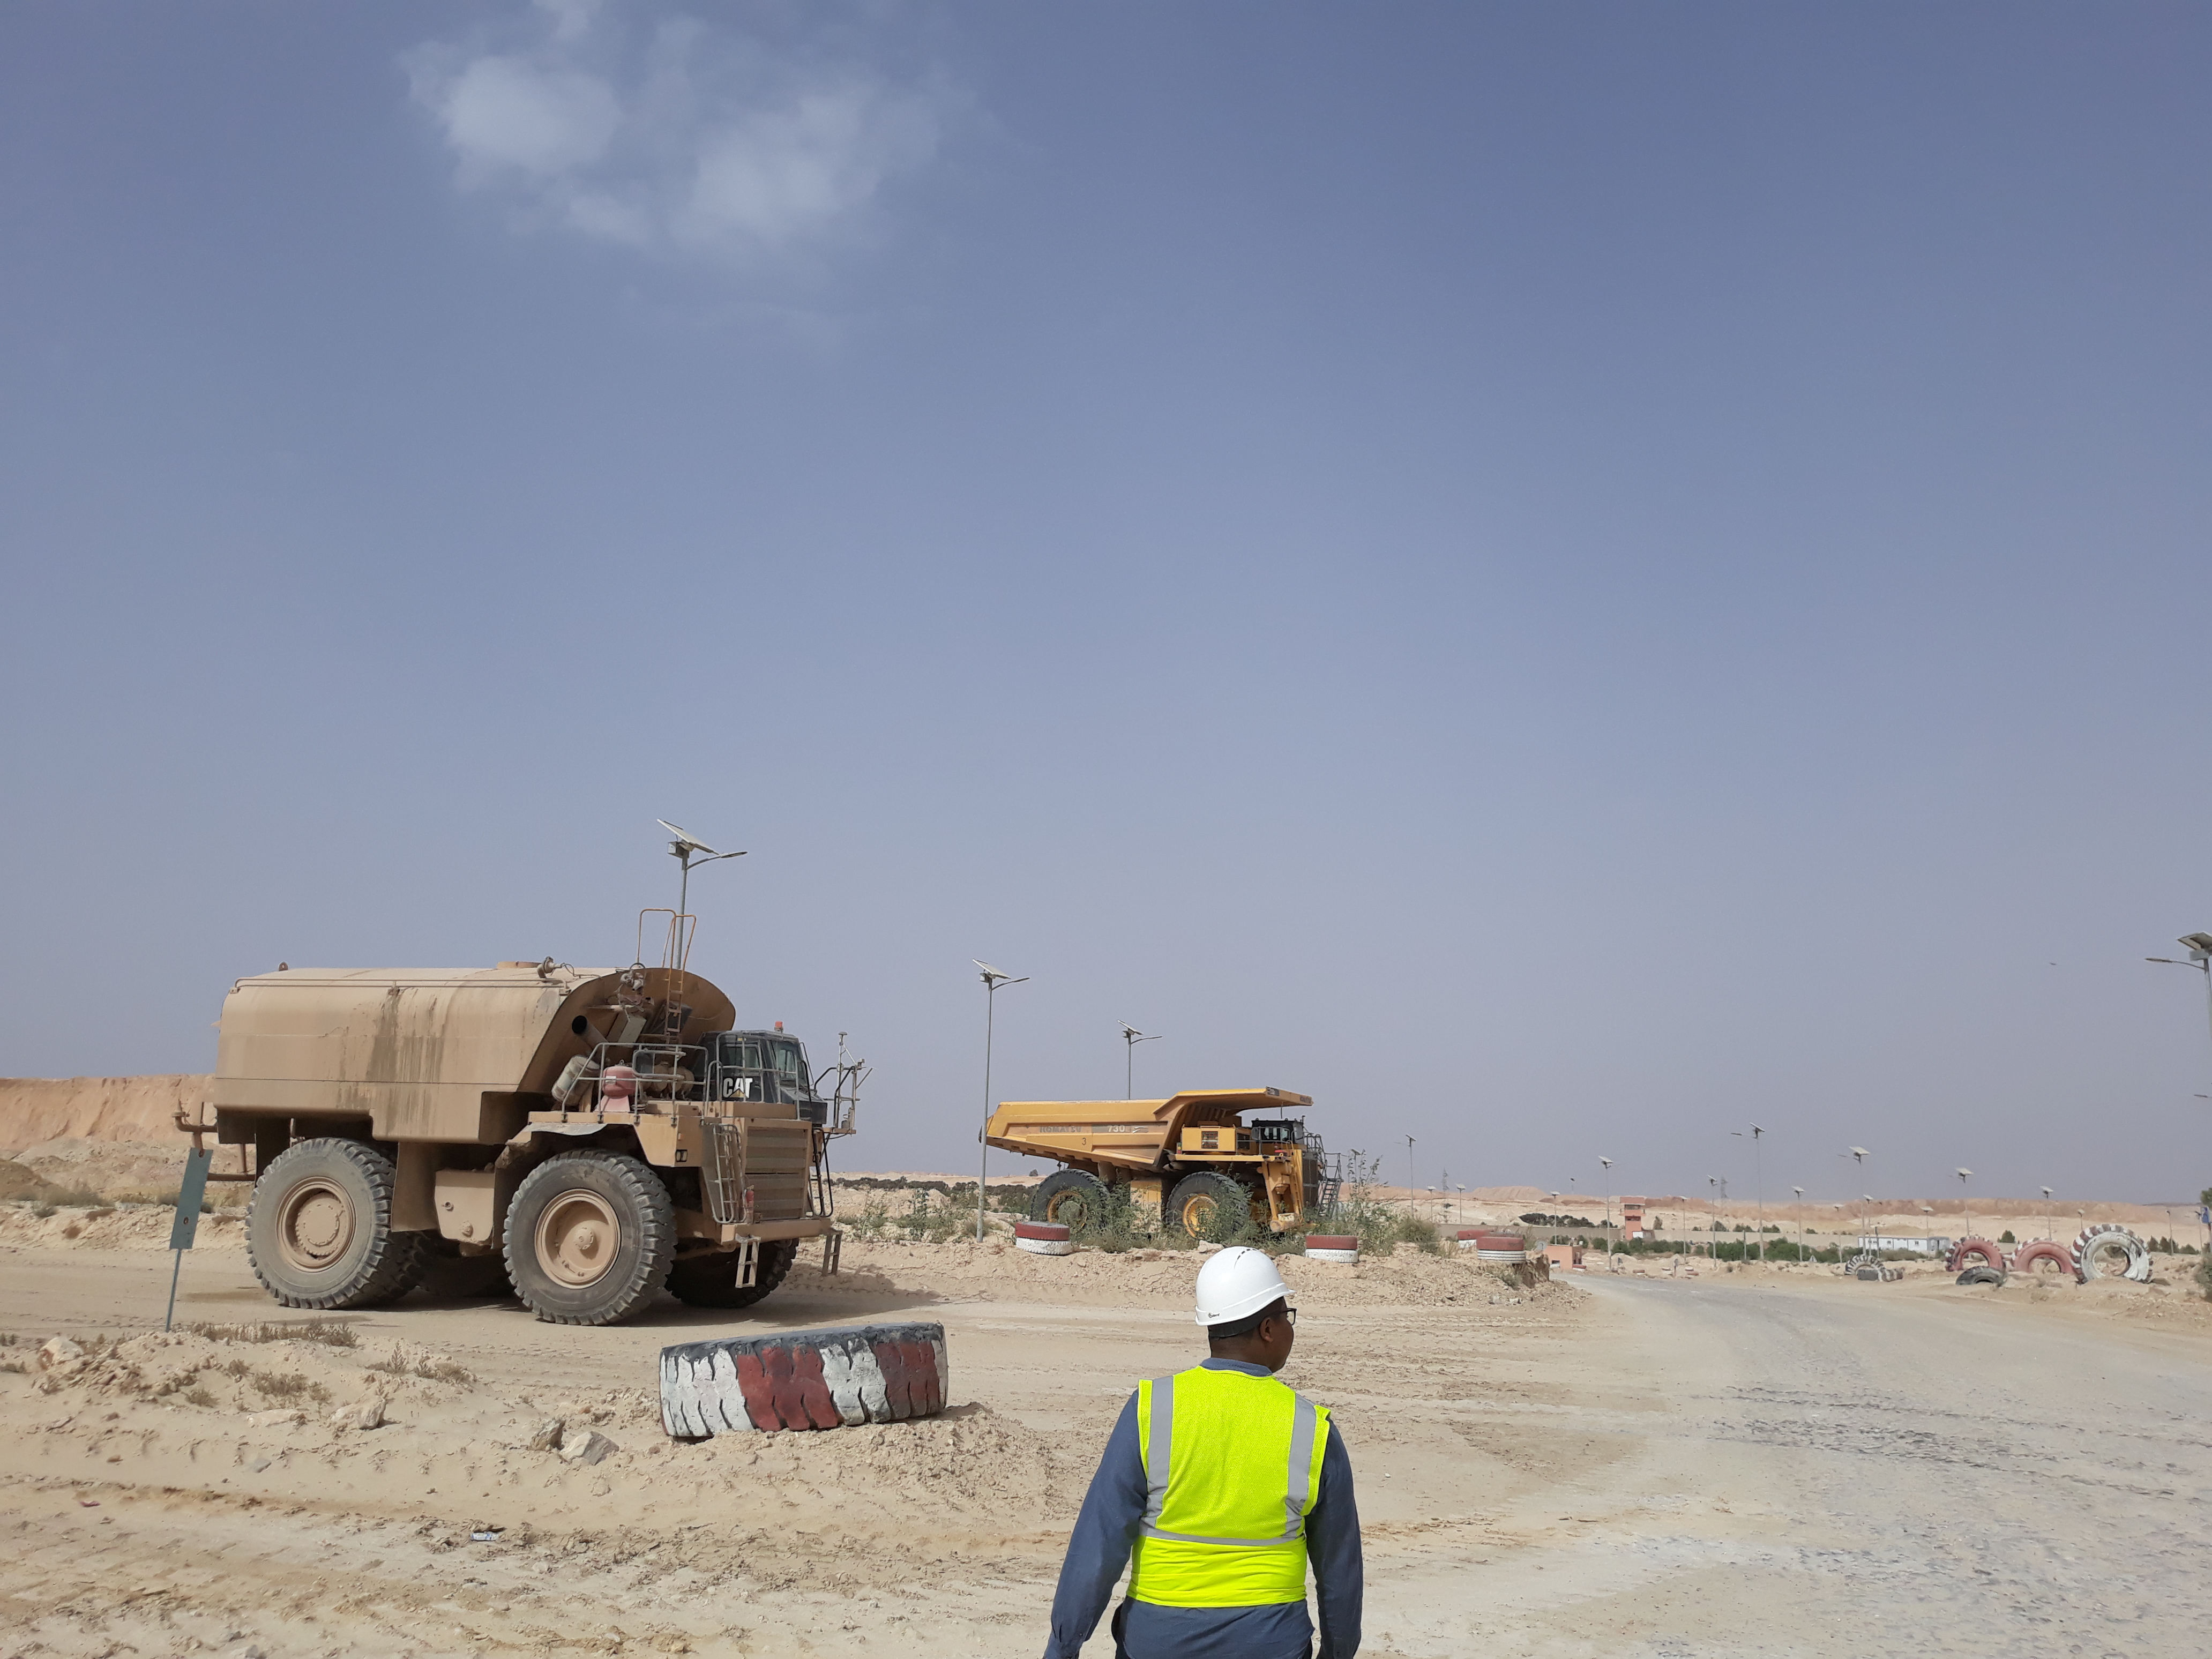camion: (937, 1067, 1370, 1281)
person: (1101, 1231, 1365, 1659)
